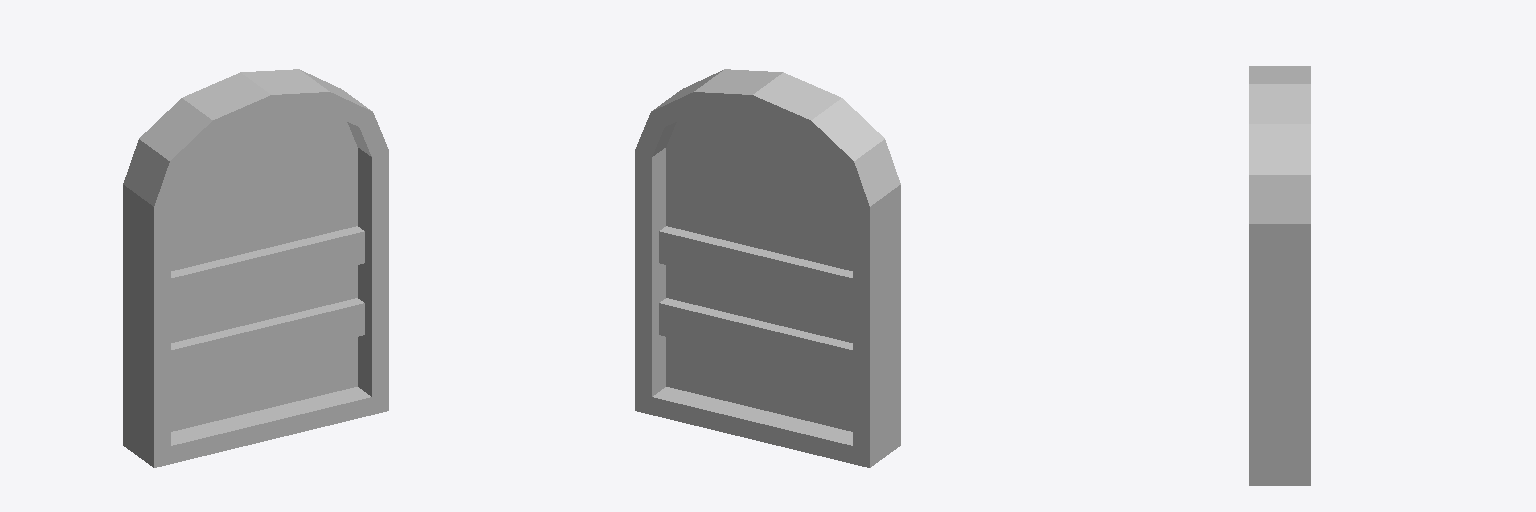
The model's file is gate@gate.002.obj.
The picture shows the model from 3 angles: view 1: azimuth 30°, elevation 25°; view 2: azimuth 150°, elevation 25°; view 3: azimuth 270°, elevation 25°; orthographic projection.
Visible parts, largest first — view 1: gate.002; view 2: gate.002; view 3: gate.002.
Boxes of the visible parts, <box> form: gate.002: <box>123,69,388,467</box>; gate.002: <box>635,69,900,467</box>; gate.002: <box>1249,66,1310,485</box>.
Size of the model in its own units: 14.95 by 20.98 by 3.42.